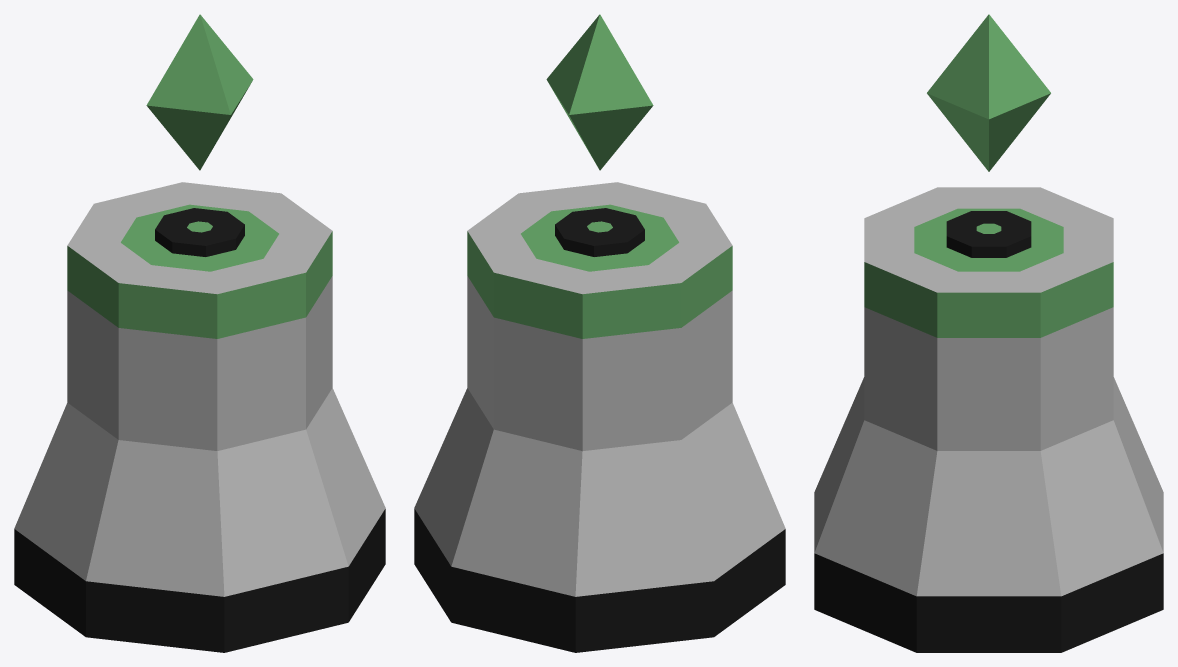
Rendered from Mages_Earth.fbx.
3 views of the same model, side by side, from view 1: azimuth 30°, elevation 25°; view 2: azimuth 150°, elevation 25°; view 3: azimuth 270°, elevation 25° (orthographic).
Visible parts, largest first — view 1: Mages_Earth; view 2: Mages_Earth; view 3: Mages_Earth.
Part boxes in pixels (x1,y1,x2,y2): Mages_Earth: (14,14,385,652); Mages_Earth: (414,14,785,652); Mages_Earth: (814,14,1163,652).
Bounding box in the file's own units: 140 × 250 × 140.
